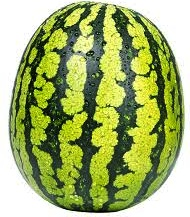watermelon: (11, 1, 183, 214)
